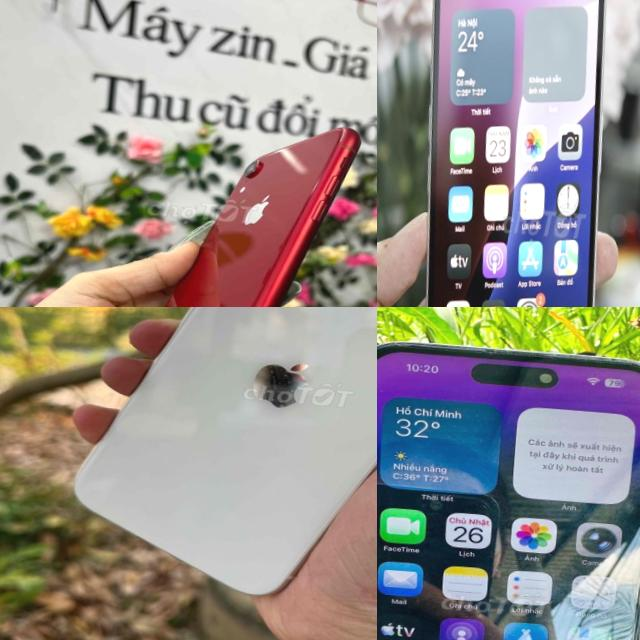gen_11: (59, 307, 377, 616)
gen_14: (377, 323, 640, 640)
gen_16: (383, 0, 639, 307)
gen_x_xs: (104, 105, 365, 307)
